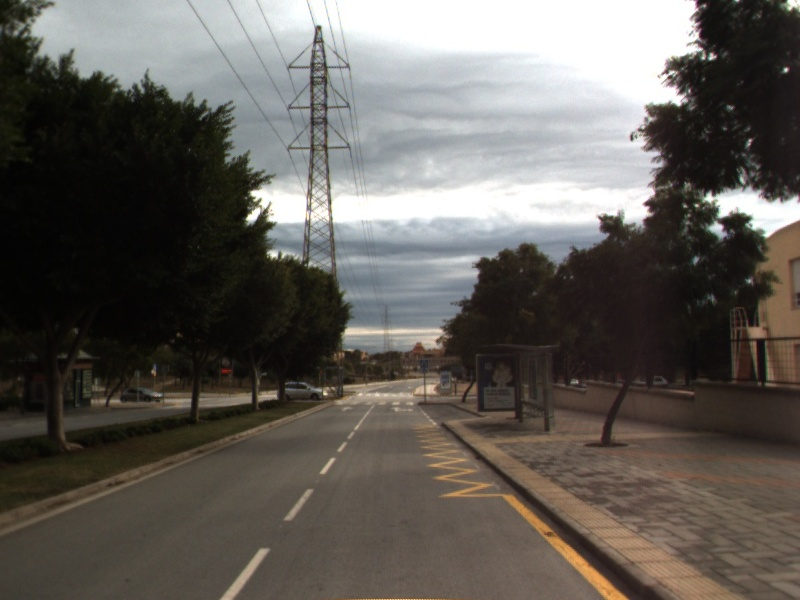STRAIGHT: (337, 404, 356, 414)
STRAIGHT_RIGHT: (388, 404, 417, 414)
